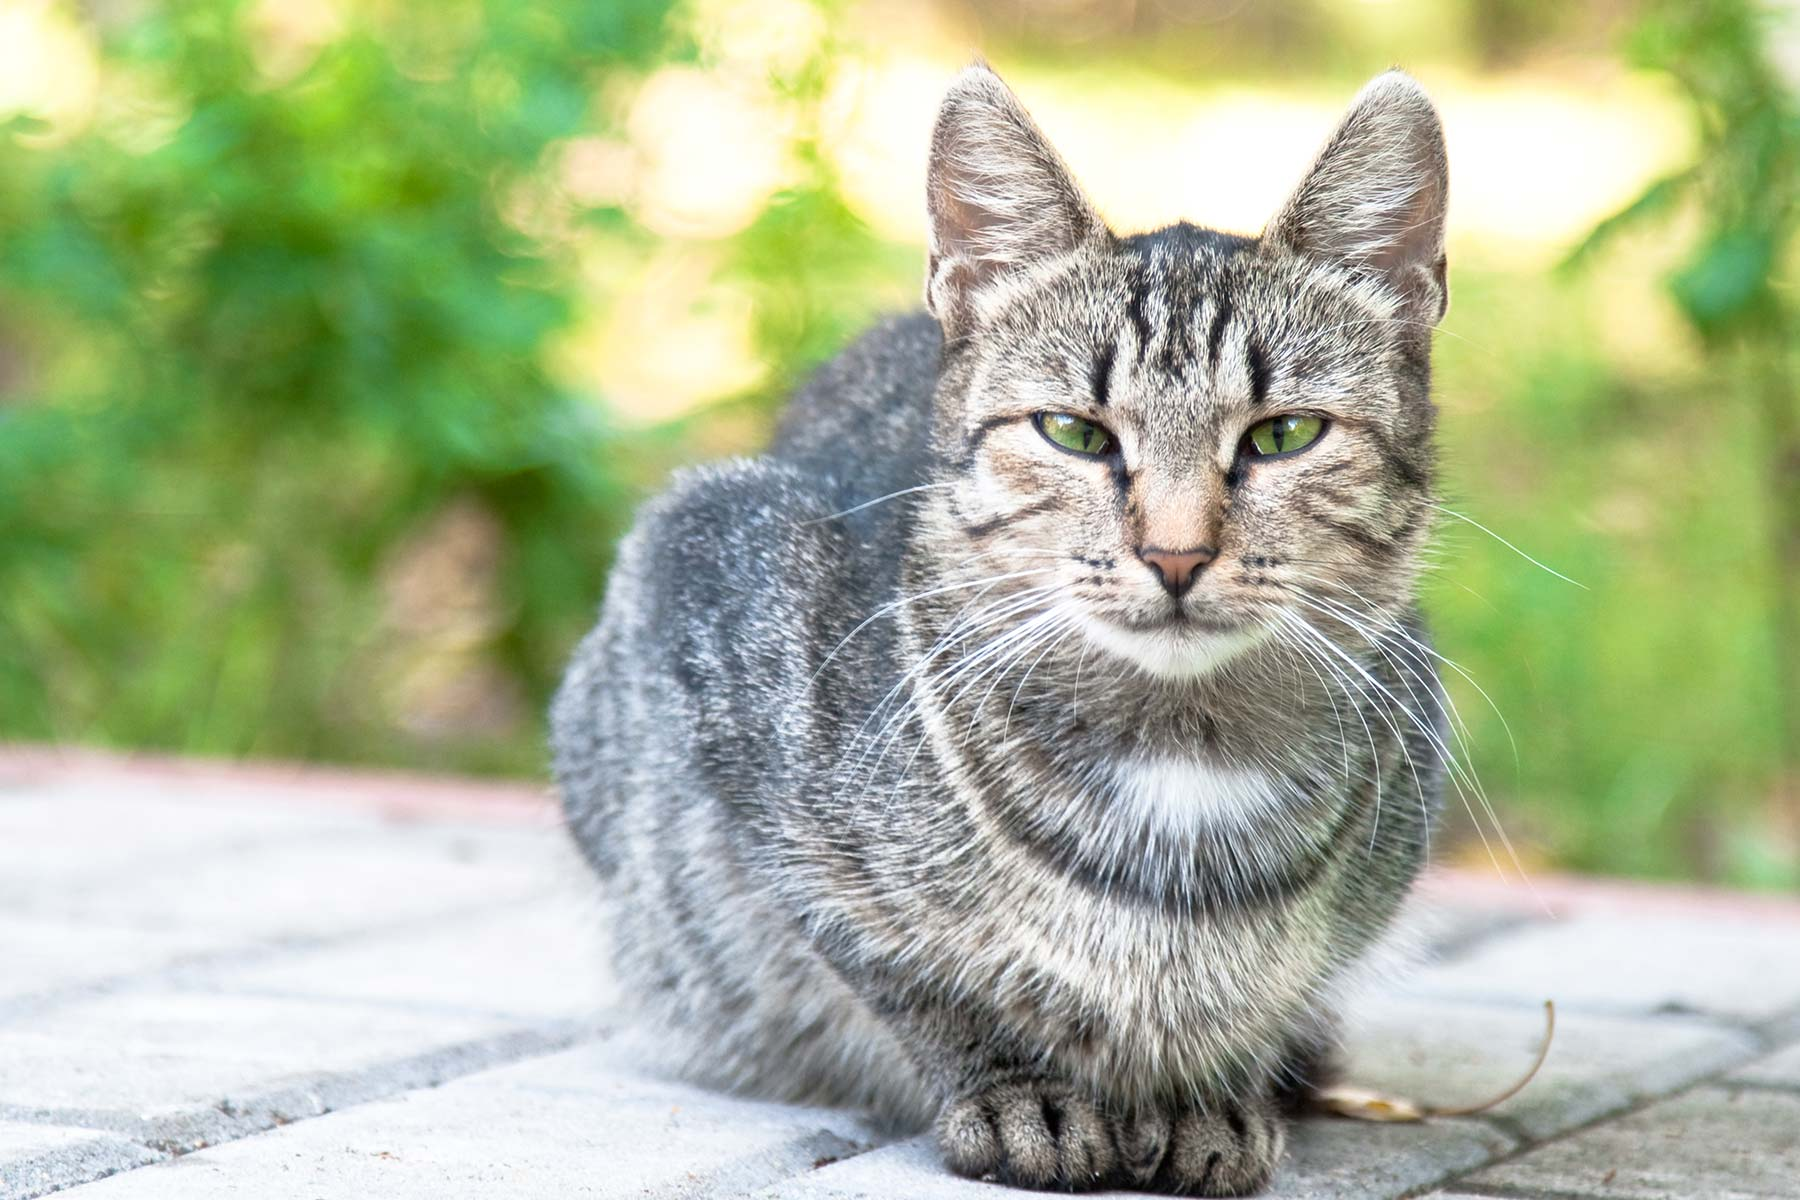cat: (492, 70, 1519, 1167)
